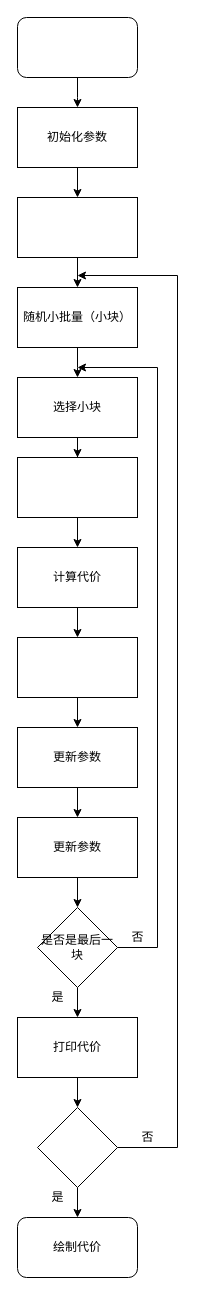
The diagram is 203 pixels wide and 1295 high, and some of its shapes have lost their labels. The shapes that lost their labels are listed below. From the top down, each one's centre as x and y in pixels, then its label:
(x=77, y=47): 输入
(x=77, y=227): 选择下降算法（梯度下降、Momentum、Adam）
(x=77, y=487): 前向传播
(x=77, y=667): 后向传播
(x=77, y=1147): 迭代结束？
